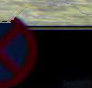No Stopping: (0, 9, 37, 87)
